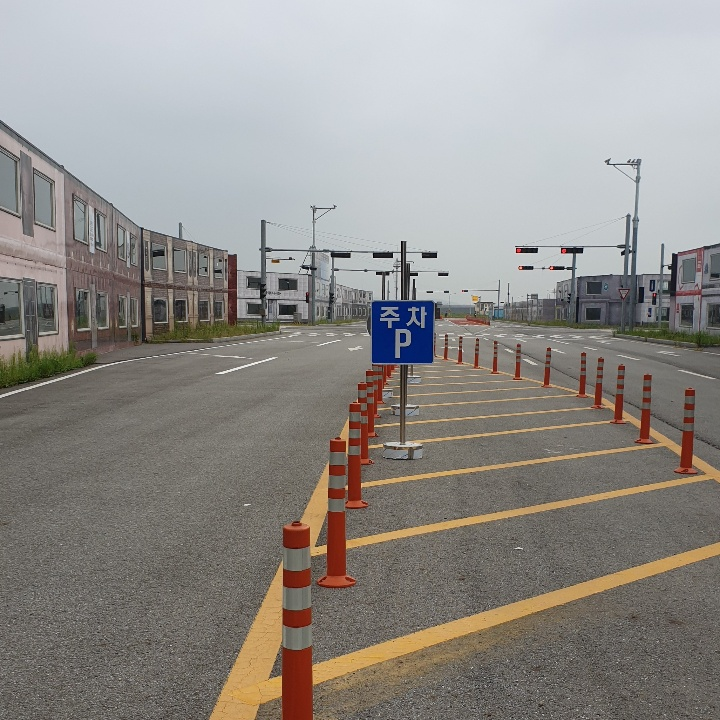parking: (390, 322, 417, 364)
